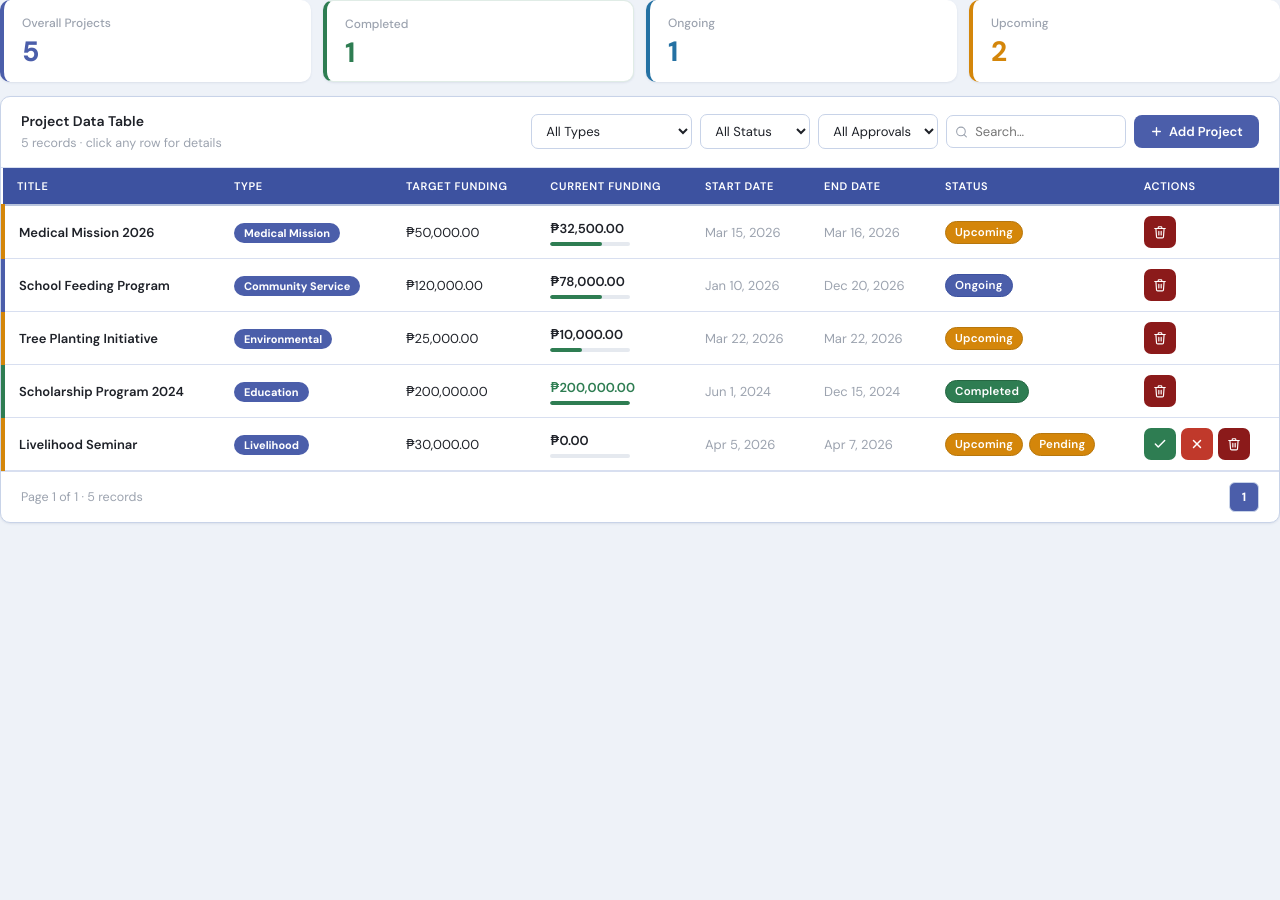
Test case: Projects page › Approve sets the approval only: the lifecycle status is untouched (no more auto-Ongoing)
The image size is (1280, 900).
Click the button titled "Approve": (1160, 444) [1144,428,1176,460]
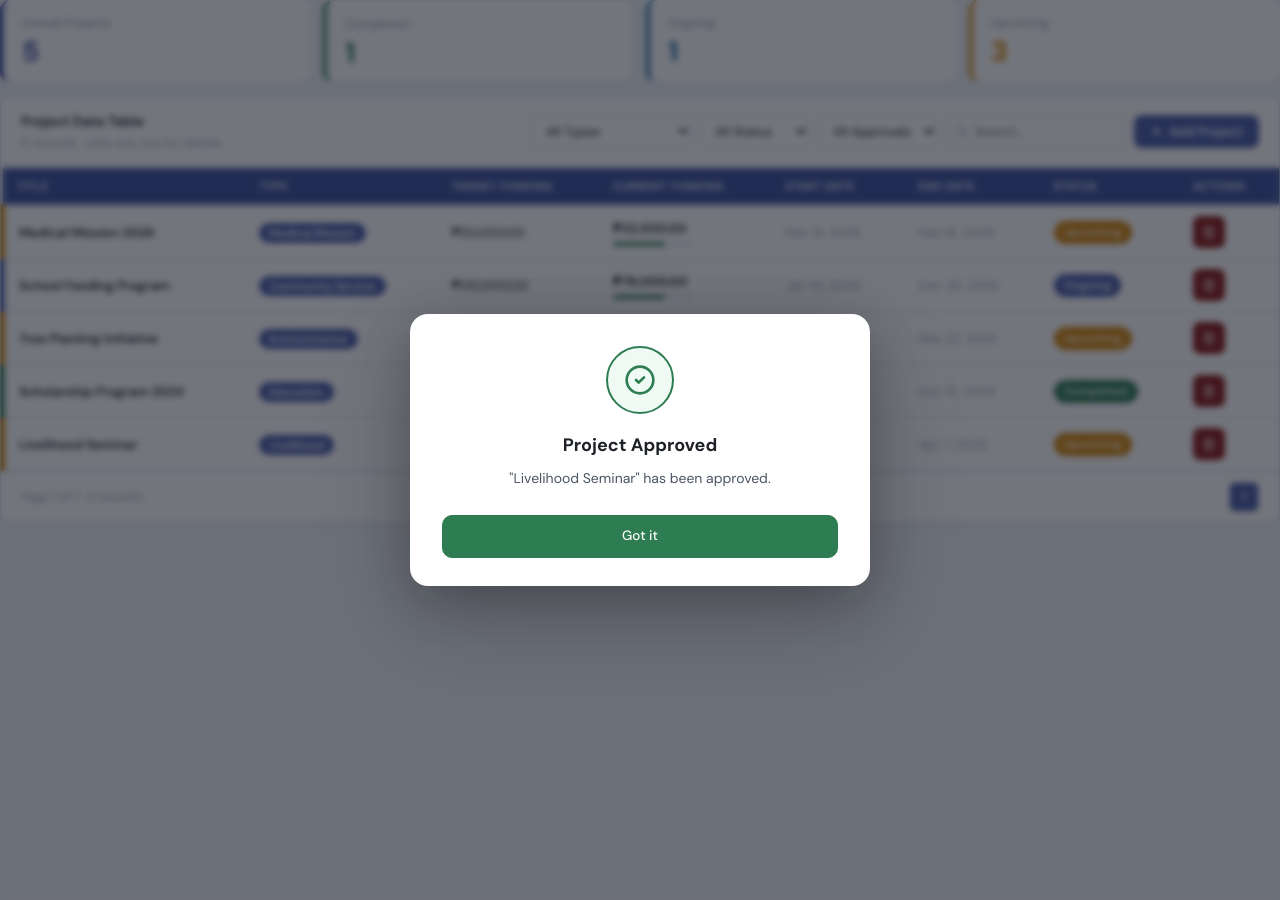
Now no buttons titled "Approve" are shown
Now the text "Livelihood Seminar" no longer shows "Pending"
Now the text "Project Approved" is shown, box [563,433,717,457]
